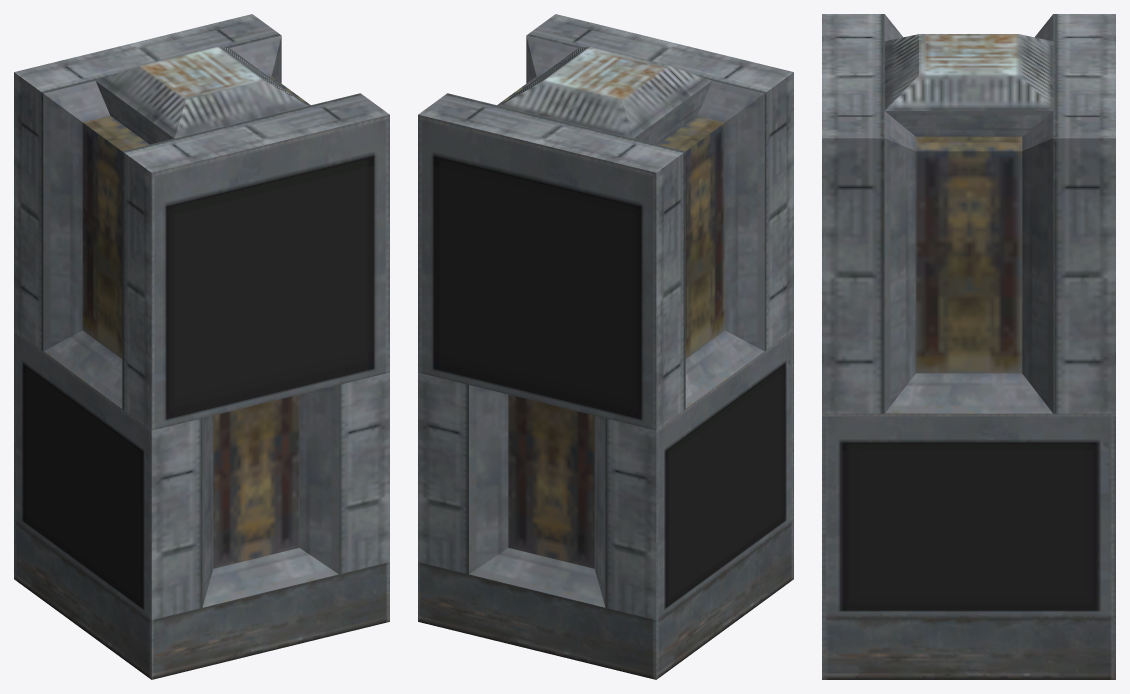
File: FlatVerticalBalancer.fbx
The picture shows the model from 3 angles, left to right: view 1: azimuth 30°, elevation 25°; view 2: azimuth 150°, elevation 25°; view 3: azimuth 270°, elevation 25°; orthographic projection. The views are drawn at different scales.
Visible parts, largest first — view 1: FlatVerticalBalancer2h; view 2: FlatVerticalBalancer2h; view 3: FlatVerticalBalancer2h.
Boxes of the visible parts, x1=… form: FlatVerticalBalancer2h: x1=14, y1=14, x2=389, y2=679; FlatVerticalBalancer2h: x1=418, y1=14, x2=793, y2=679; FlatVerticalBalancer2h: x1=822, y1=14, x2=1115, y2=679.
Size of the model in its own units: 0.0508 by 0.1074 by 0.0508.
1 material, 1 textured.
